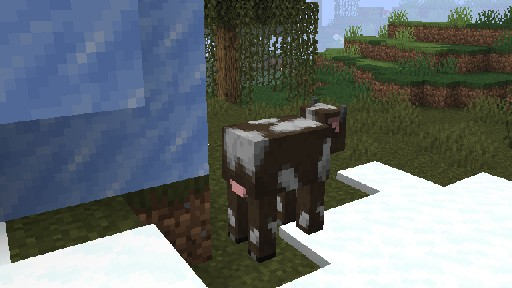cow: (221, 97, 347, 263)
